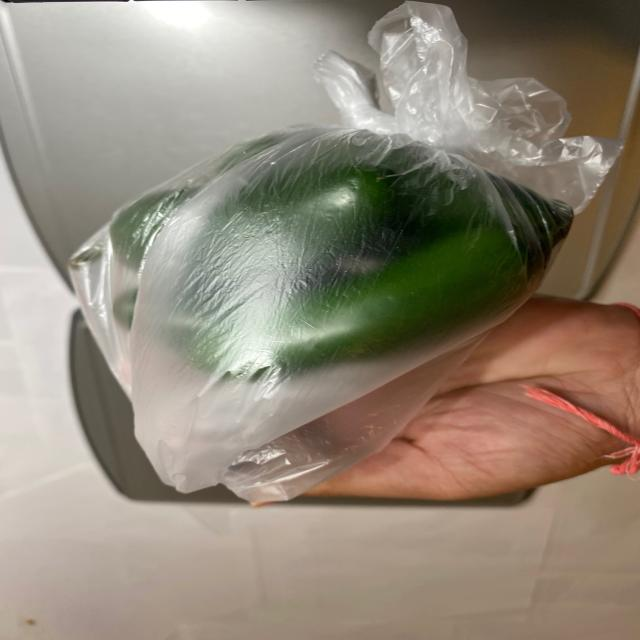chilli: (39, 130, 584, 400)
